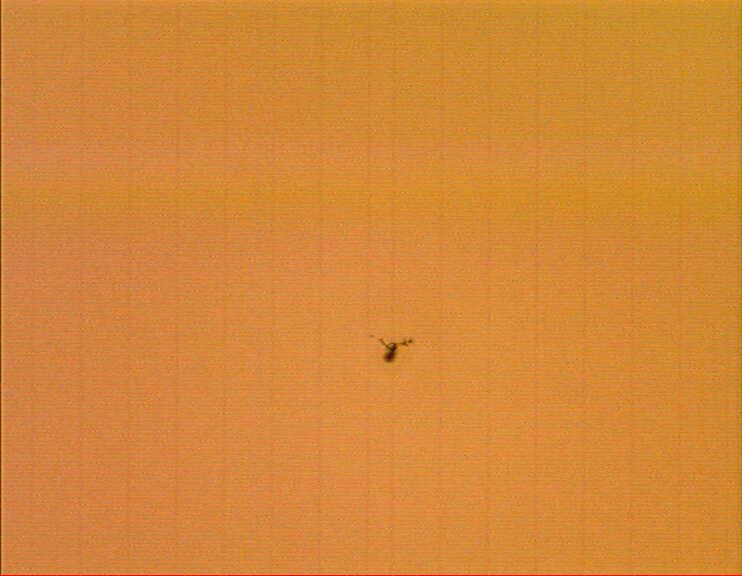PIQ PARTICLE: (366, 326, 417, 366)
